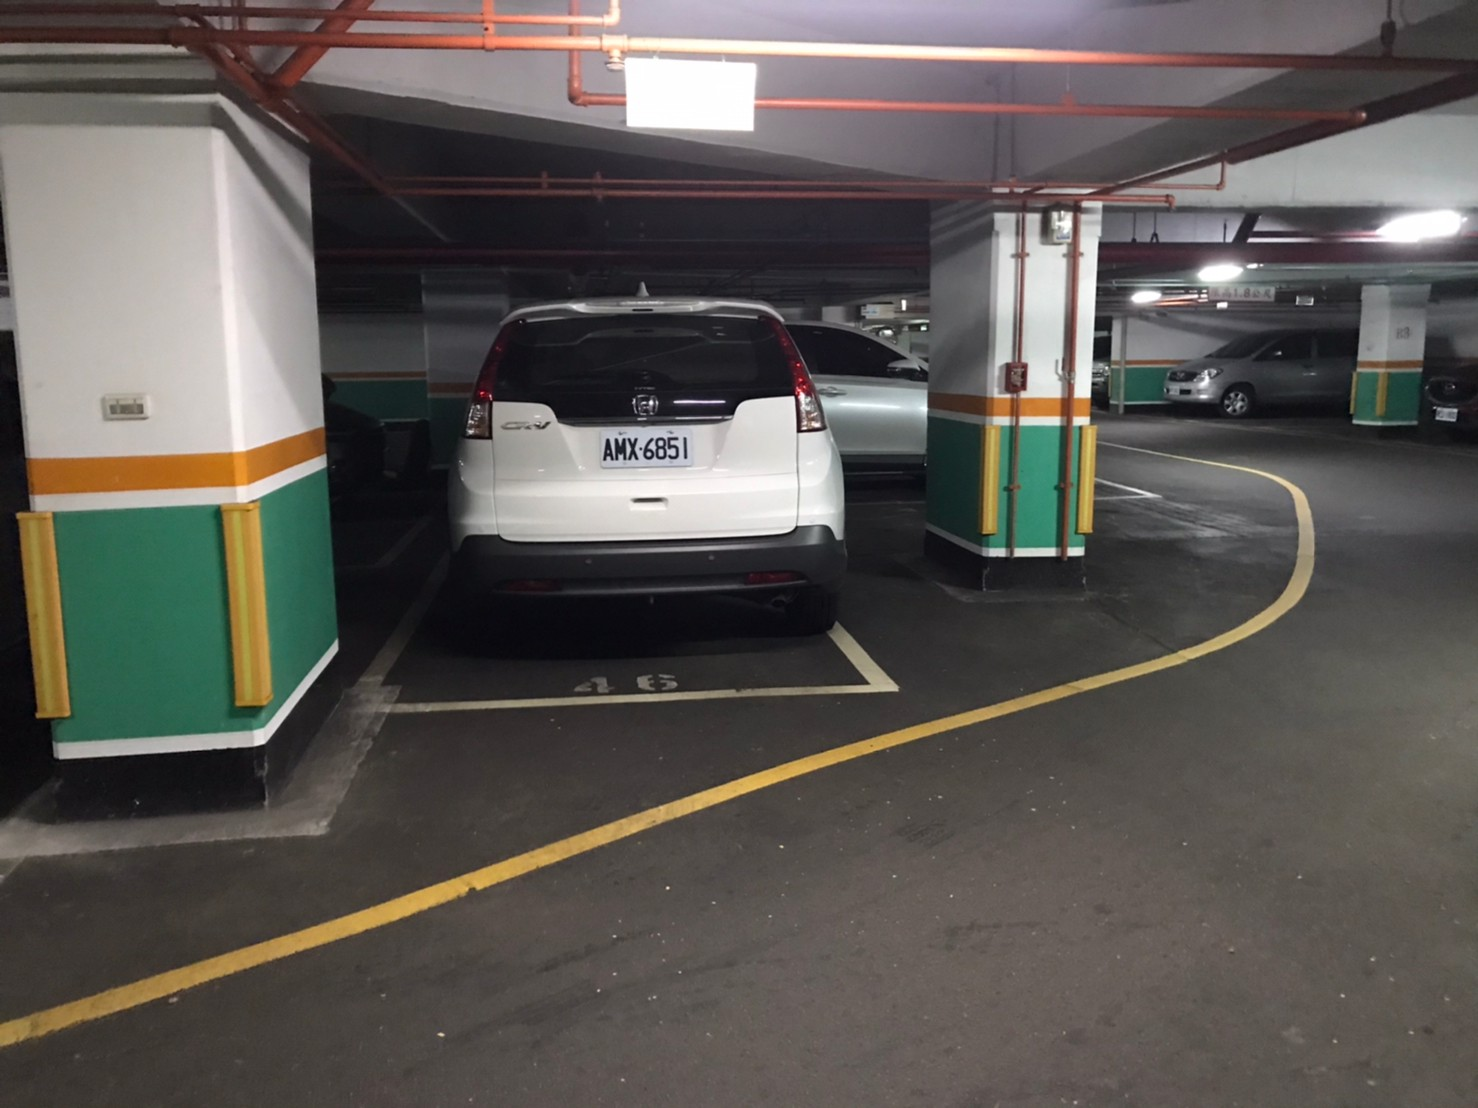LP: (599, 429, 692, 468)
